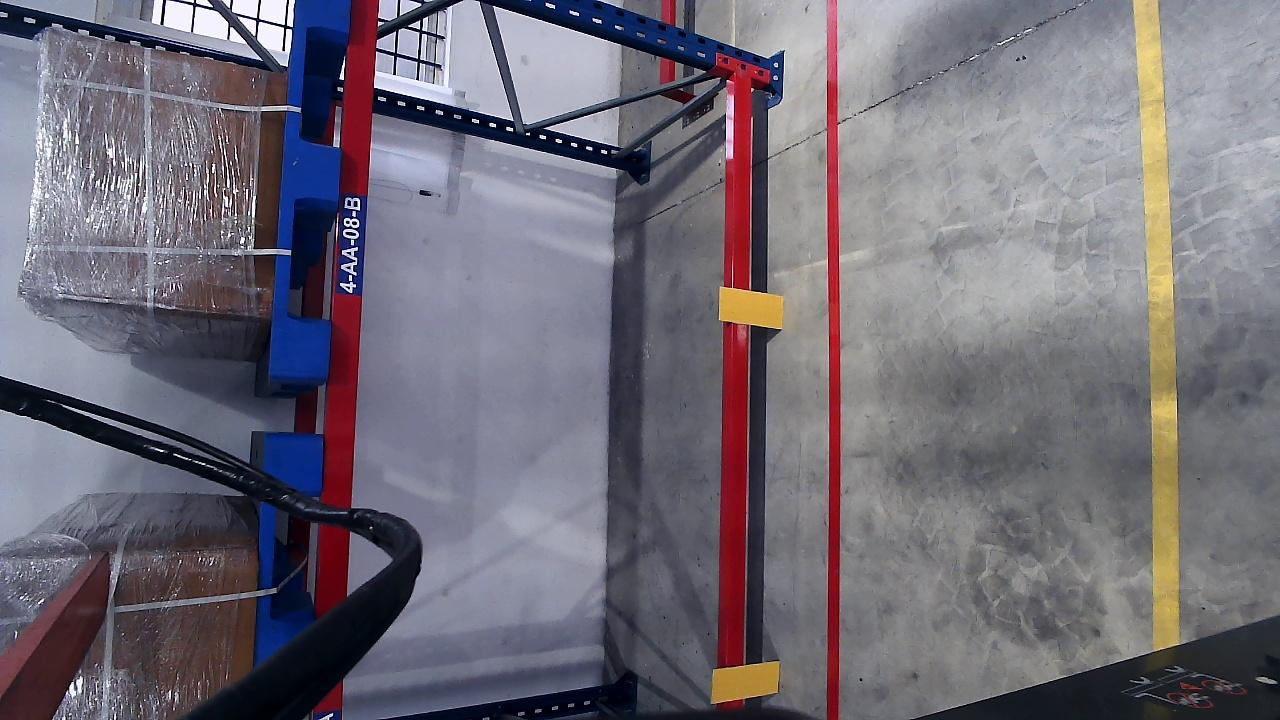h_rack: (320, 0, 380, 720), (725, 75, 758, 714)
orange_strip: (711, 660, 780, 702), (719, 287, 784, 329)
small_pallet: (271, 0, 354, 380), (249, 432, 325, 717), (826, 0, 838, 720)
yellow_line: (1135, 0, 1181, 652)
